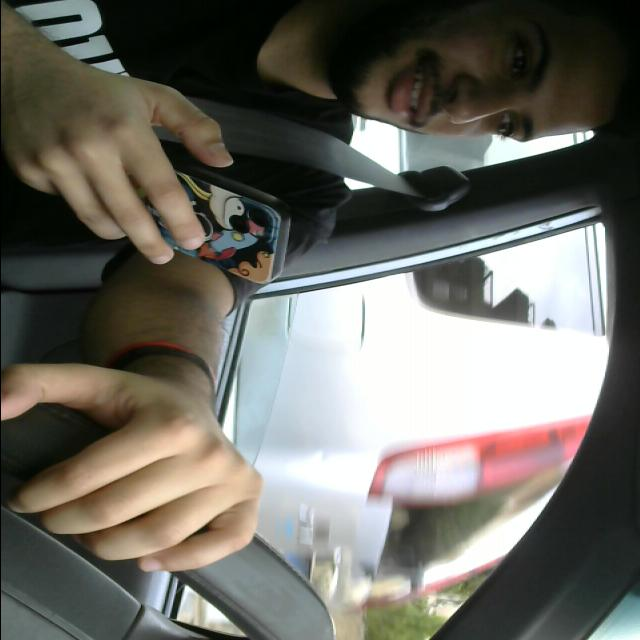mobile use: (67, 141, 297, 289)
